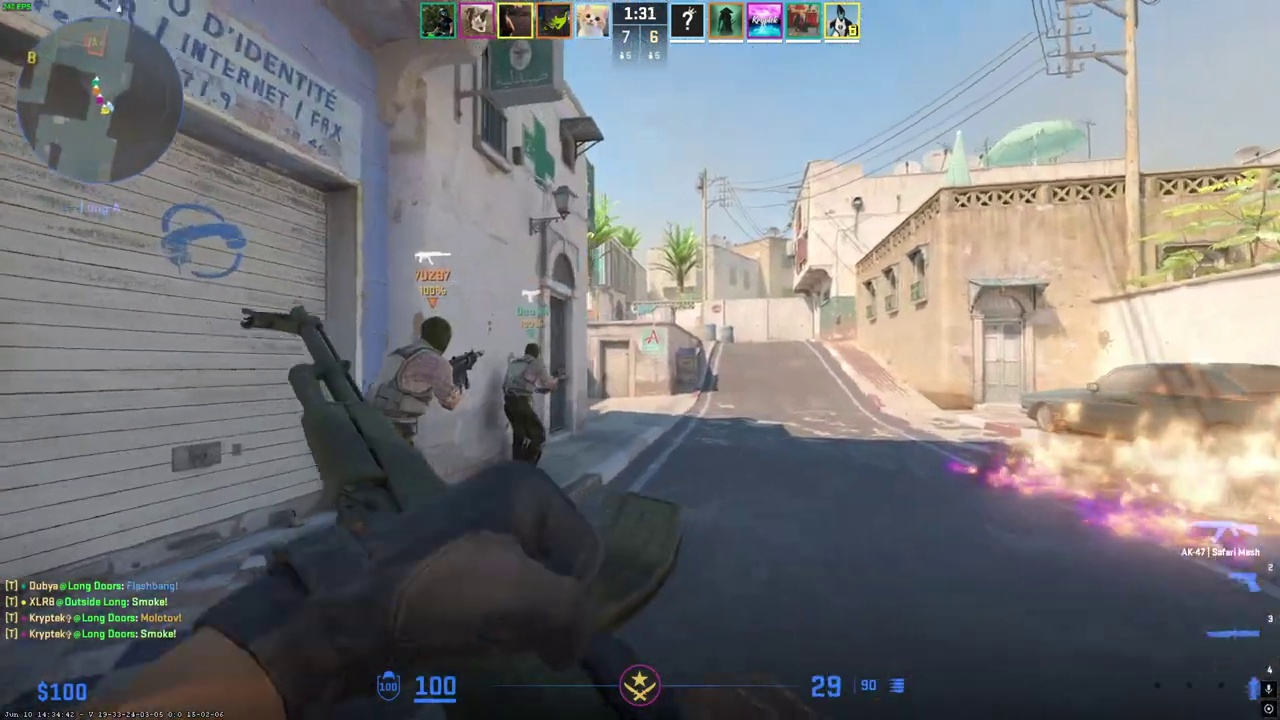Terrorist: (369, 316, 462, 449), (503, 343, 553, 468)
